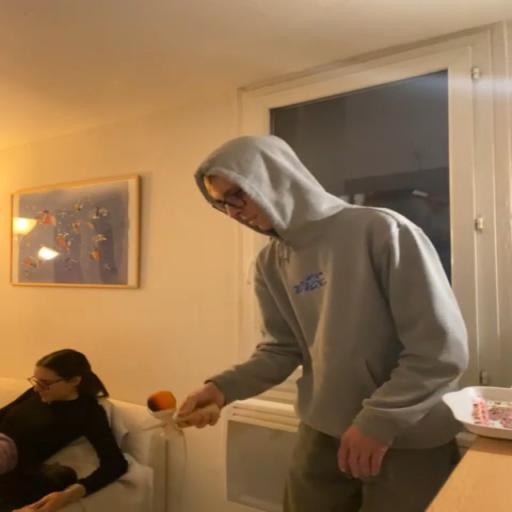kendama_ball: (147, 390, 176, 414)
